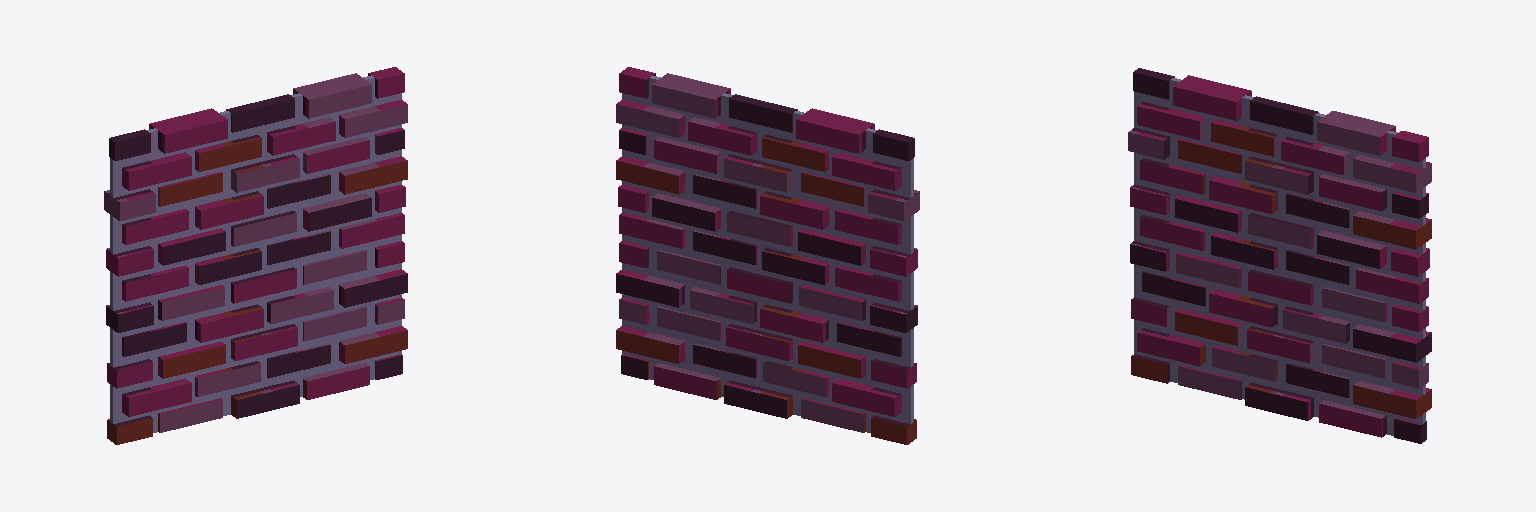
3 renders of one model, left to right at view 1: azimuth 30°, elevation 25°; view 2: azimuth 150°, elevation 25°; view 3: azimuth 330°, elevation 25°, orthographic.
Size of the model in its own units: 32 by 32 by 3.
Materials: 1 (1 with a texture image).